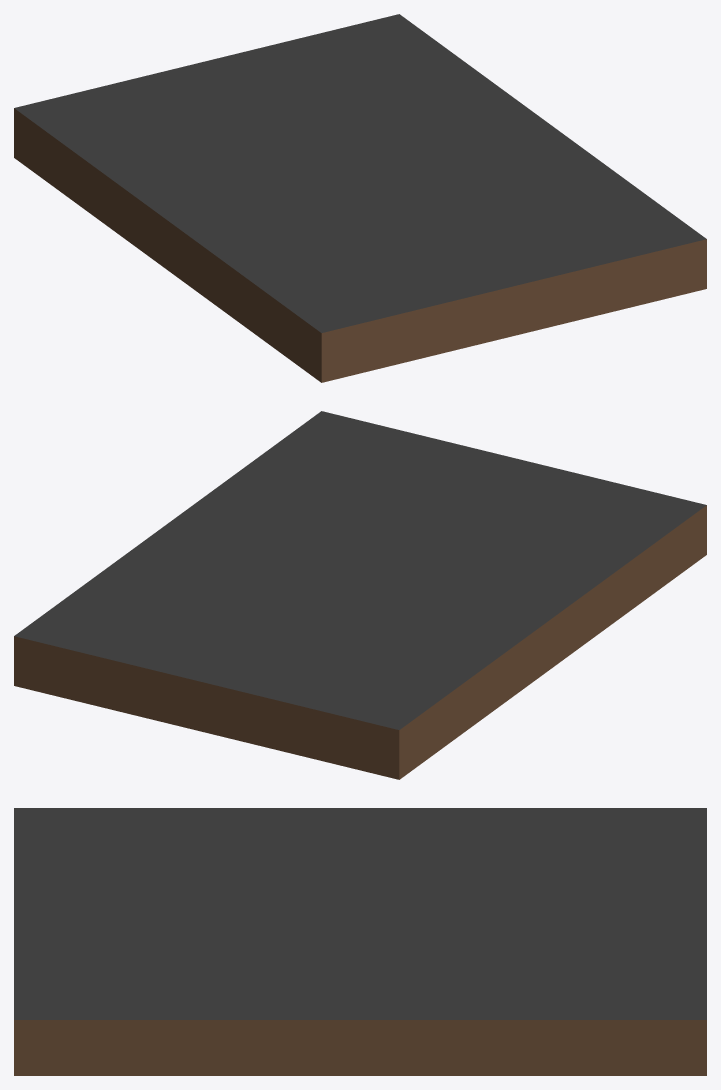
Rendered from Painting_Photo.obj.
The picture shows the model from 3 angles, top to bottom: view 1: azimuth 30°, elevation 25°; view 2: azimuth 150°, elevation 25°; view 3: azimuth 270°, elevation 25°; orthographic projection. The views are drawn at different scales.
Parts seen in each view (by area): view 1: Painting_Photo; view 2: Painting_Photo; view 3: Painting_Photo.
Part boxes in pixels (left/top/right/bottom): Painting_Photo: left=14, top=14, right=706, bottom=382; Painting_Photo: left=14, top=411, right=706, bottom=779; Painting_Photo: left=14, top=808, right=706, bottom=1075.
Size of the model in its own units: 0.2976 by 0.0367 by 0.4113.
